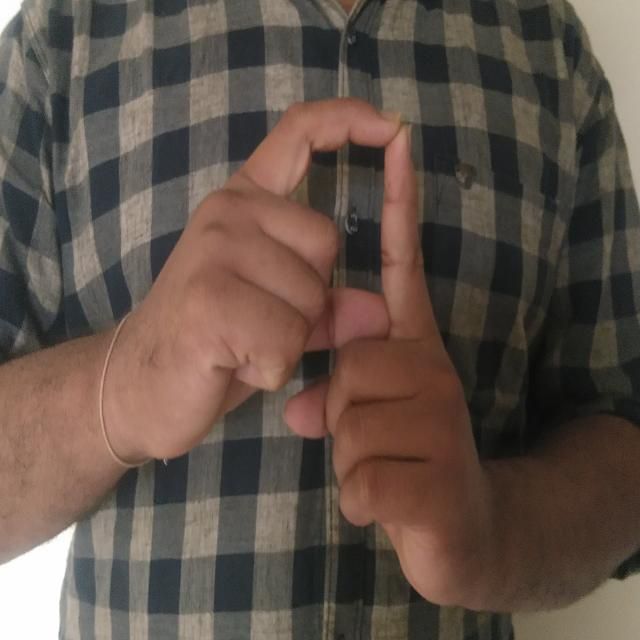D: (128, 88, 519, 622)
